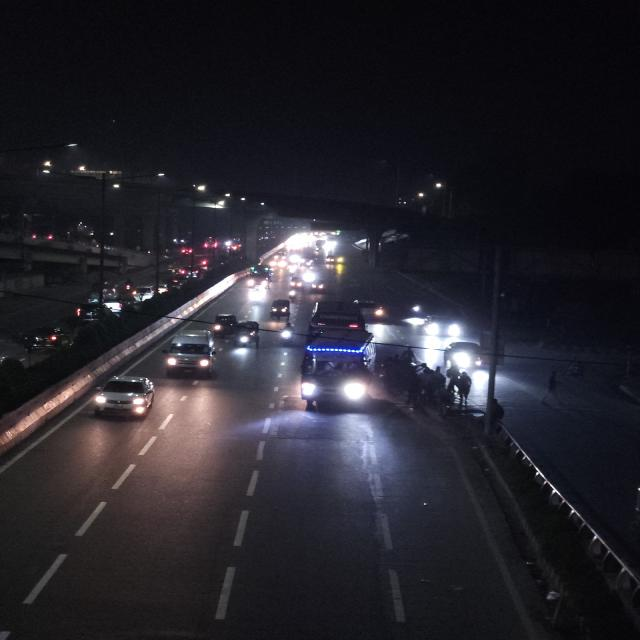bus: (298, 327, 377, 411)
car: (88, 373, 158, 422), (161, 325, 220, 379), (418, 311, 463, 340), (20, 326, 70, 352), (357, 298, 386, 320), (132, 286, 155, 302)
cng: (235, 319, 262, 349), (268, 296, 292, 322), (210, 312, 238, 334), (73, 303, 103, 322), (288, 274, 304, 290), (309, 280, 327, 294)
motorcycle: (278, 322, 297, 348)
pedestrian: (452, 372, 474, 406), (540, 369, 564, 397)
